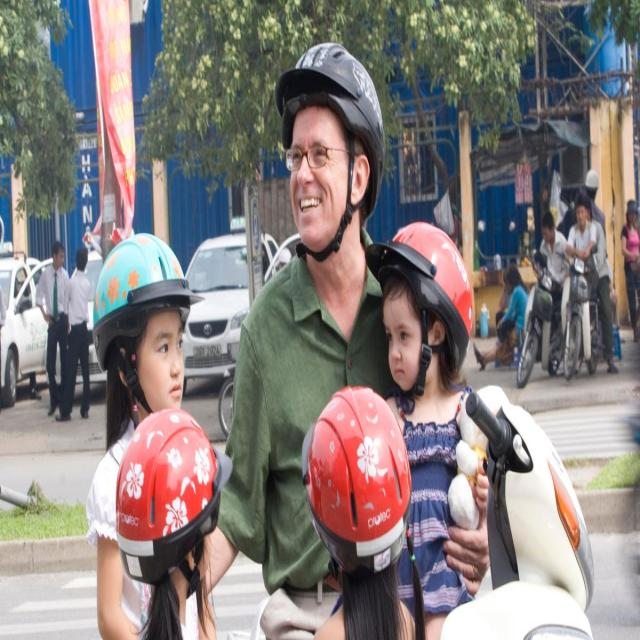1-2-helmet: (115, 408, 234, 584), (302, 384, 412, 574), (275, 43, 386, 208), (366, 222, 475, 369), (93, 231, 205, 374)
